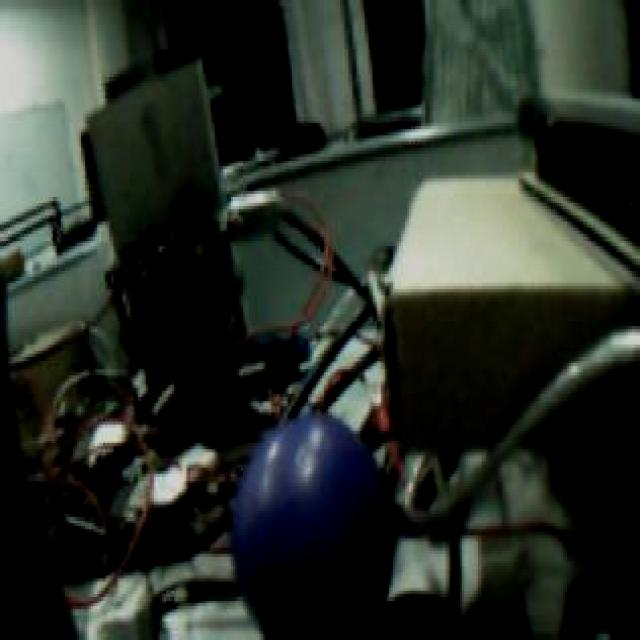BallPurple: (232, 414, 394, 640)
